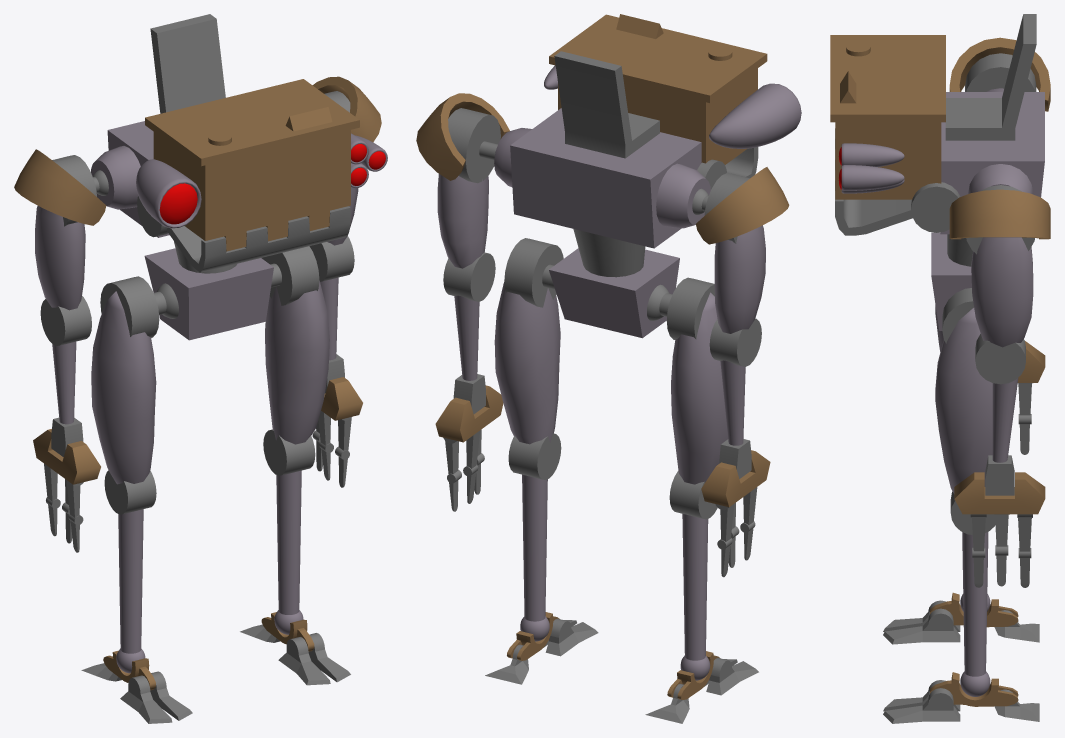
The model's file is BOSS_ver1.fbx.
The picture shows the model from 3 angles, left to right: view 1: azimuth 30°, elevation 25°; view 2: azimuth 150°, elevation 25°; view 3: azimuth 270°, elevation 25°; orthographic projection. The views are drawn at different scales.
Parts seen in each view (by area): view 1: pCylinder87, pSphere28, pSphere27, pCube13, pSphere31, pSphere30, pSphere32, pCube10, polySurface5, pPipe3, polySurface2, pCube23 (+8 smaller); view 2: pCylinder87, pSphere27, pSphere28, pCube13, pSphere29, pSphere31, pSphere30, pSphere32, polySurface2, polySurface5, pPipe3, pPipe1 (+10 smaller); view 3: pCylinder87, pSphere27, pSphere29, polySurface2, pPipe1, pSphere31, pCube18, pCube10, pCube13, pPipe3, pSphere30, pCylinder61 (+17 smaller).
Part boxes in pixels (x1,y1,x2,y2): pCylinder87: (91,14,387,251); pSphere28: (91,276,178,484); pSphere27: (261,246,329,444); pCube13: (144,248,273,340); pSphere31: (263,429,315,634); pSphere30: (35,155,108,310); pSphere32: (104,470,156,673); pCube10: (166,206,350,272); polySurface5: (40,296,91,456); pPipe3: (14,149,106,225); polySurface2: (309,236,354,393); pCube23: (33,429,100,484); pCylinder87: (494,14,801,248); pSphere27: (494,238,563,444); pSphere28: (647,277,727,484); pCube13: (549,248,679,338); pSphere29: (437,108,500,268); pSphere31: (508,433,561,641); pSphere30: (692,173,765,333); pSphere32: (669,471,717,680); polySurface2: (443,252,495,414); polySurface5: (709,318,761,478); pPipe3: (696,167,789,244); pPipe1: (416,93,509,180); pCylinder87: (830,14,1044,234); pSphere27: (935,288,992,493); pSphere29: (966,185,1034,347); polySurface2: (975,334,1025,495); pPipe1: (949,189,1050,239); pSphere31: (950,491,995,696); pCube18: (954,472,1045,514); pCube10: (835,128,912,235); pCube13: (931,232,971,330); pPipe3: (949,37,1050,111); pSphere30: (965,53,1036,91); pCylinder61: (883,608,960,644).
Size of the model in its own units: 104 by 177 by 54.96.
